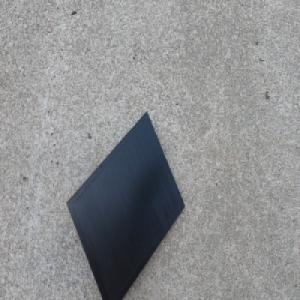PlasticPart: (66, 108, 187, 300)
